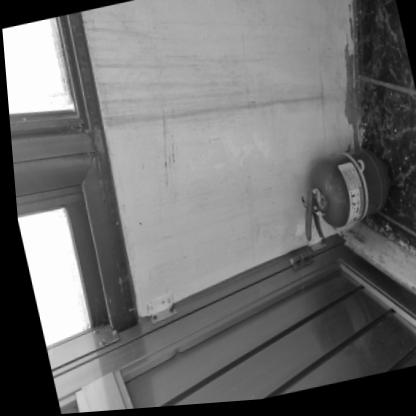FE: (285, 150, 397, 247)
